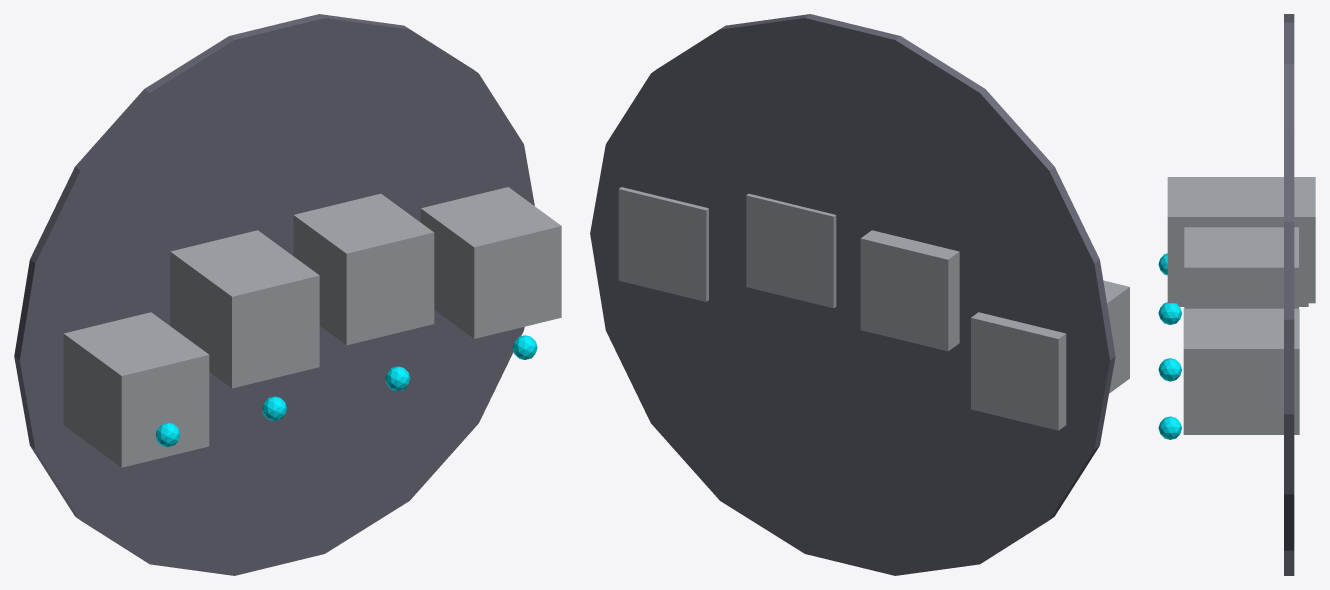
The model's file is 04_event_hazard_cluster.glb.
3 renders of one model, left to right at view 1: azimuth 30°, elevation 25°; view 2: azimuth 150°, elevation 25°; view 3: azimuth 270°, elevation 25°, orthographic. The views are drawn at different scales.
Visible parts, largest first — view 1: scatter_base, tech_crate_1, tech_crate_0, tech_crate_3, tech_crate_2; view 2: scatter_base, tech_crate_0, tech_crate_1, tech_crate_3, tech_crate_2; view 3: tech_crate_3, tech_crate_1, tech_crate_2, scatter_base, status_light_3, status_light_2, status_light_1.
Boxes of the visible parts, box(x1,y1,x2,y2) form: scatter_base: box(14, 14, 534, 575); tech_crate_1: box(170, 230, 319, 388); tech_crate_0: box(63, 312, 209, 467); tech_crate_3: box(420, 187, 561, 338); tech_crate_2: box(293, 193, 434, 345); scatter_base: box(590, 14, 1115, 575); tech_crate_0: box(971, 280, 1129, 430); tech_crate_1: box(860, 230, 959, 351); tech_crate_3: box(618, 187, 708, 301); tech_crate_2: box(746, 193, 836, 308); tech_crate_3: box(1183, 308, 1299, 434); tech_crate_1: box(1167, 177, 1315, 303); tech_crate_2: box(1184, 227, 1298, 308); scatter_base: box(1284, 14, 1294, 575); status_light_3: box(1158, 416, 1181, 439); status_light_2: box(1158, 358, 1181, 381); status_light_1: box(1158, 302, 1181, 324).
Size of the model in its own units: 1.9 by 1.87 by 0.5291.
